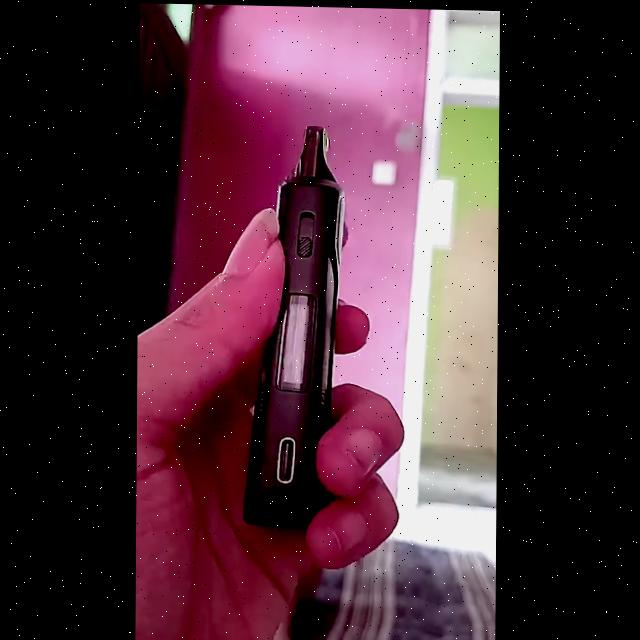vape: (239, 118, 347, 531)
